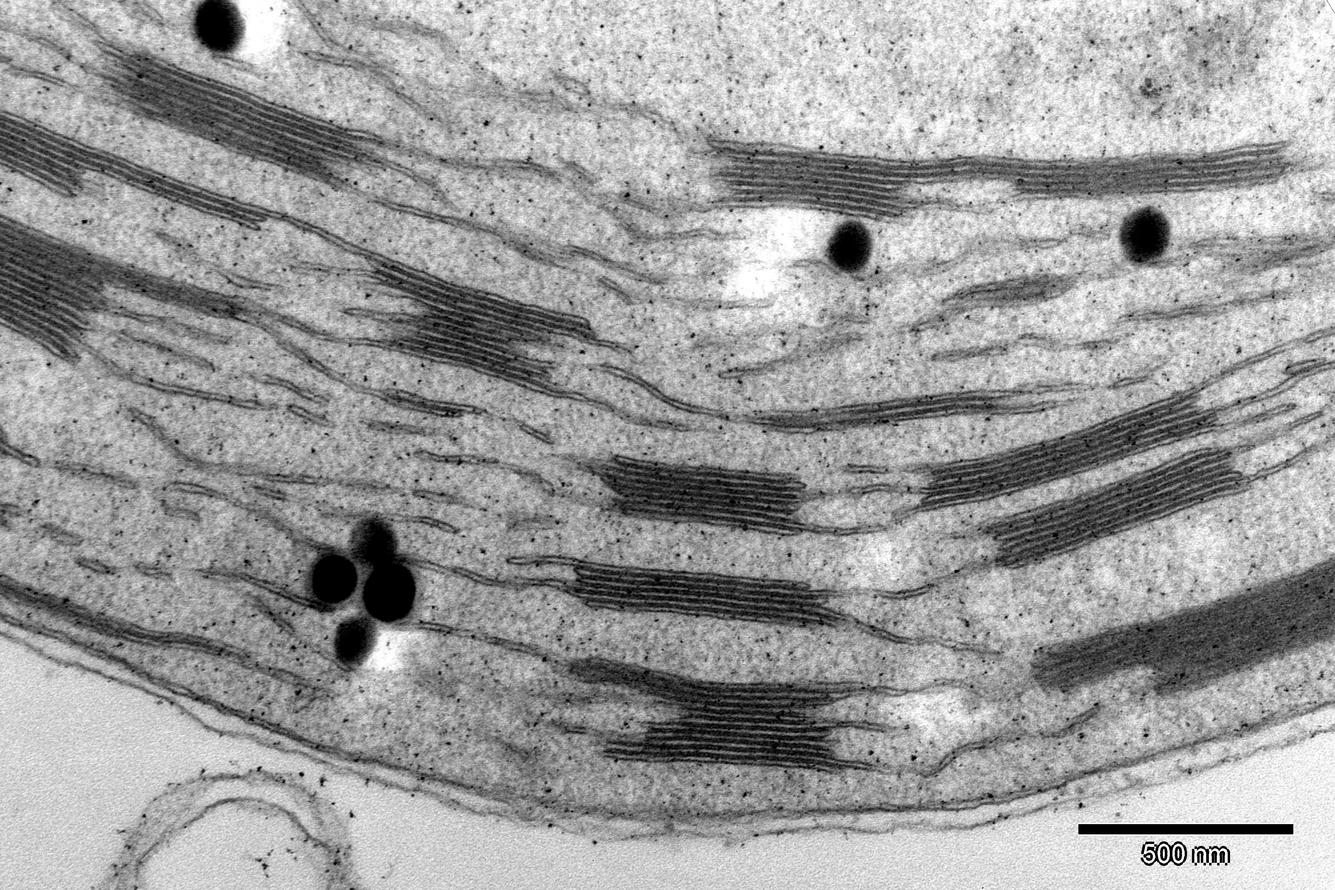granum: (1024, 552, 1335, 704), (0, 208, 273, 370), (95, 43, 396, 186), (919, 384, 1227, 513), (561, 648, 849, 781), (353, 248, 598, 398), (0, 104, 273, 236), (978, 444, 1254, 573), (708, 133, 1014, 230), (568, 556, 833, 633), (595, 451, 808, 540), (1007, 140, 1288, 204), (750, 385, 1000, 437), (1203, 227, 1329, 280), (940, 270, 1075, 318)
